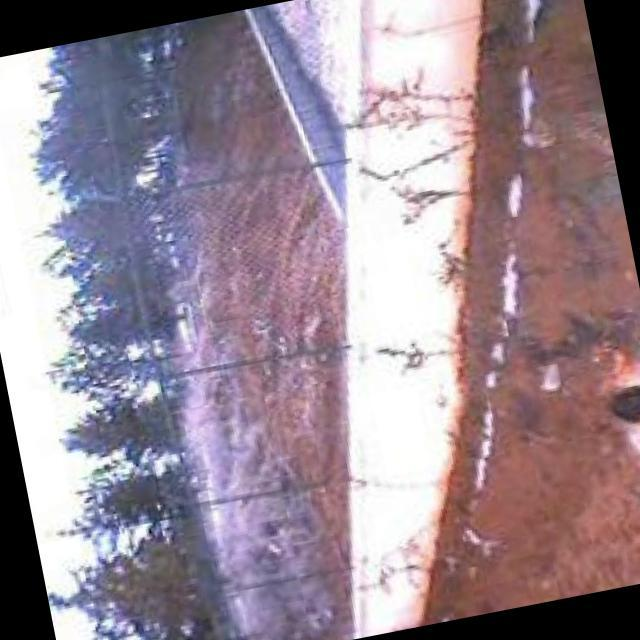Fire: (588, 337, 640, 467)
